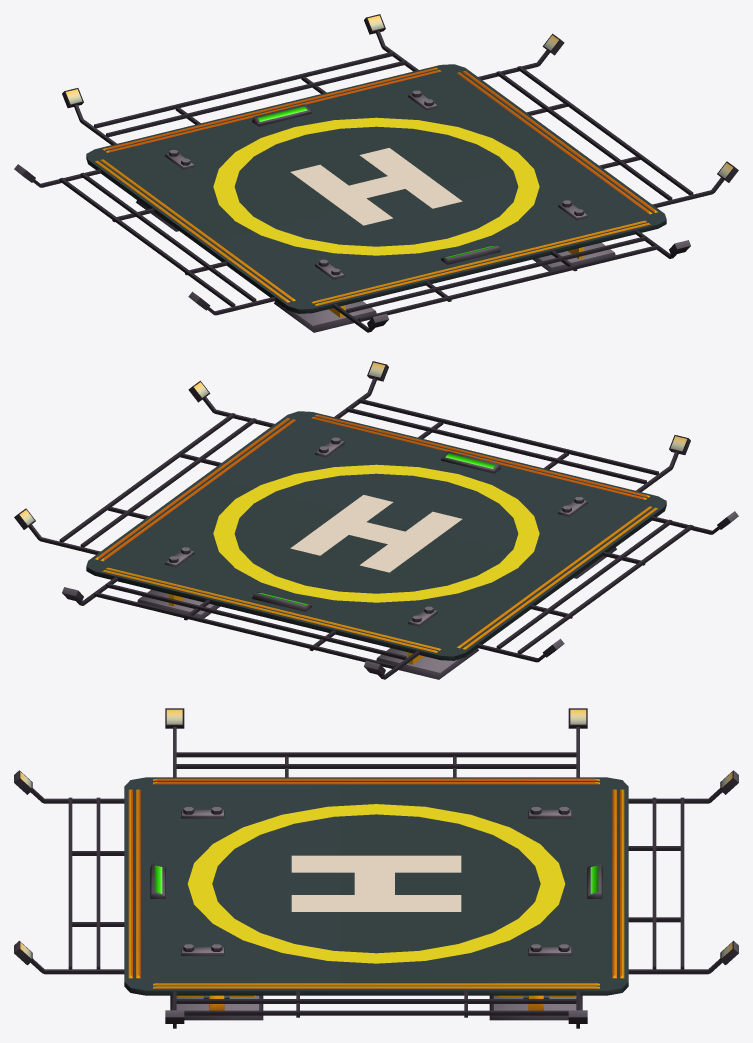
File: Helipad_1A.fbx
The picture shows the model from 3 angles, top to bottom: view 1: azimuth 30°, elevation 25°; view 2: azimuth 150°, elevation 25°; view 3: azimuth 270°, elevation 25°; orthographic projection. The views are drawn at different scales.
Parts seen in each view (by area): view 1: Helipad_1A; view 2: Helipad_1A; view 3: Helipad_1A.
Part boxes in pixels (x1=…): Helipad_1A: x1=14, y1=14, x2=738, y2=332; Helipad_1A: x1=14, y1=361, x2=738, y2=679; Helipad_1A: x1=14, y1=708, x2=738, y2=1028.
Size of the model in its own units: 2588 by 297 by 2588.
